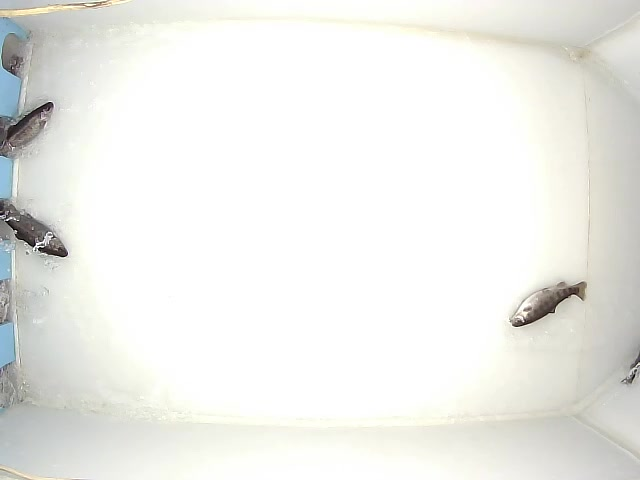fish: (1, 198, 70, 259), (508, 279, 588, 328), (1, 98, 57, 153)
